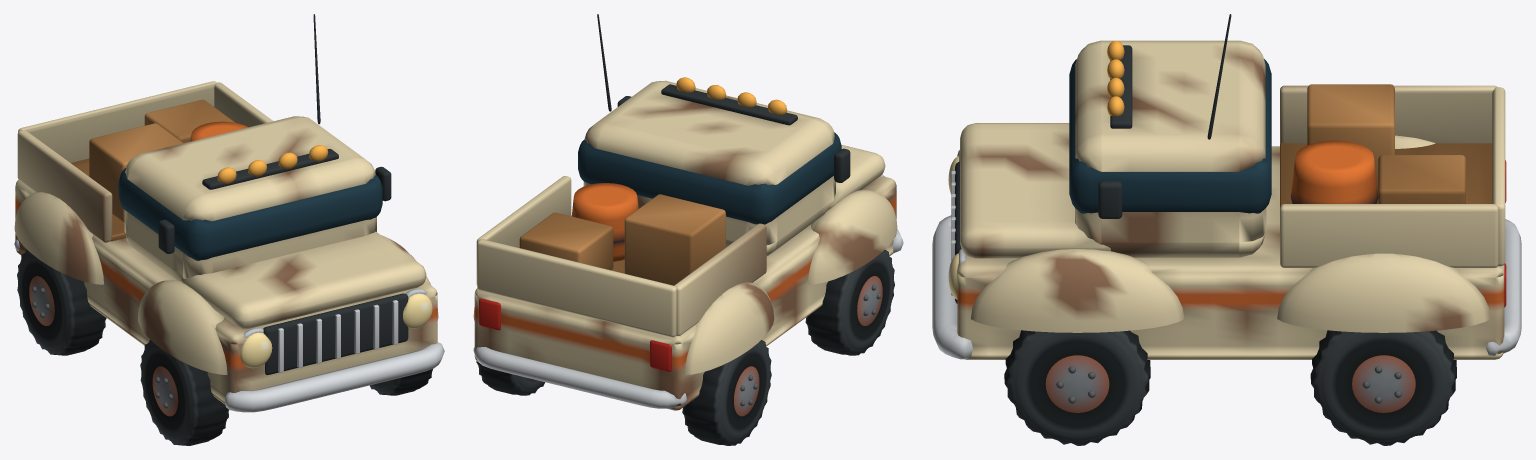
Rendered from truck.glb.
The picture shows the model from 3 angles, left to right: view 1: azimuth 30°, elevation 25°; view 2: azimuth 150°, elevation 25°; view 3: azimuth 270°, elevation 25°; orthographic projection. The views are drawn at different scales.
Parts seen in each view (by area): view 1: truckkabine, truckhjelm, trucklegeme, truckruder, truckskærm-11.4, truckgrill, truckskærm-1-1.4, dæk_bag_venstre, dæk_for_venstre, truckforkofanger, ladlem, ladside-1 (+12 smaller); view 2: truckkabine, trucklegeme, ladlem, truckruder, lastkasse1, truckskærm-11.4, truckskærm-1-1.4, dæk_for_venstre, dæk_bag_venstre, ladside-1, truckbagkofanger, lastkasse2 (+10 smaller); view 3: truckkabine, trucklegeme, truckhjelm, truckskærm11.4, truckskærm1-1.4, ladside1, dæk_for_hoejre, dæk_bag_hoejre, truckruder, ladside-1, lastkasse1, lasttønde (+9 smaller).
Part boxes in pixels (left/top/right/bottom): truckkabine: left=124, top=116, right=376, bottom=281; truckhjelm: left=181, top=231, right=426, bottom=328; trucklegeme: left=15, top=179, right=437, bottom=404; truckruder: left=118, top=168, right=382, bottom=260; truckskærm-11.4: left=138, top=280, right=227, bottom=374; truckgrill: left=263, top=293, right=408, bottom=374; truckskærm-1-1.4: left=14, top=192, right=103, bottom=284; dæk_bag_venstre: left=17, top=249, right=106, bottom=355; dæk_for_venstre: left=140, top=340, right=228, bottom=445; truckforkofanger: left=225, top=342, right=444, bottom=412; ladlem: left=18, top=81, right=216, bottom=162; ladside-1: left=17, top=130, right=112, bottom=242; truckkabine: left=583, top=80, right=835, bottom=255; trucklegeme: left=474, top=176, right=896, bottom=410; ladlem: left=477, top=239, right=676, bottom=337; truckruder: left=578, top=132, right=841, bottom=224; lastkasse1: left=624, top=194, right=725, bottom=285; truckskærm-11.4: left=808, top=189, right=897, bottom=284; truckskærm-1-1.4: left=684, top=282, right=774, bottom=374; dæk_for_venstre: left=805, top=250, right=894, bottom=355; dæk_bag_venstre: left=682, top=340, right=771, bottom=445; ladside-1: left=674, top=223, right=766, bottom=335; truckbagkofanger: left=473, top=347, right=686, bottom=408; lastkasse2: left=519, top=212, right=613, bottom=270; truckkabine: left=1075, top=40, right=1266, bottom=257; trucklegeme: left=957, top=146, right=1504, bottom=359; truckhjelm: left=960, top=123, right=1110, bottom=258; truckskærm11.4: left=971, top=249, right=1184, bottom=332; truckskærm1-1.4: left=1277, top=253, right=1490, bottom=332; ladside1: left=1280, top=204, right=1498, bottom=267; dæk_for_hoejre: left=1004, top=330, right=1150, bottom=445; dæk_bag_hoejre: left=1310, top=330, right=1456, bottom=445; truckruder: left=1069, top=59, right=1271, bottom=213; ladside-1: left=1280, top=85, right=1497, bottom=143; lastkasse1: left=1307, top=84, right=1394, bottom=194; lasttønde: left=1291, top=140, right=1378, bottom=203.
Size of the model in its own units: 3.32 by 4.19 by 5.39.
